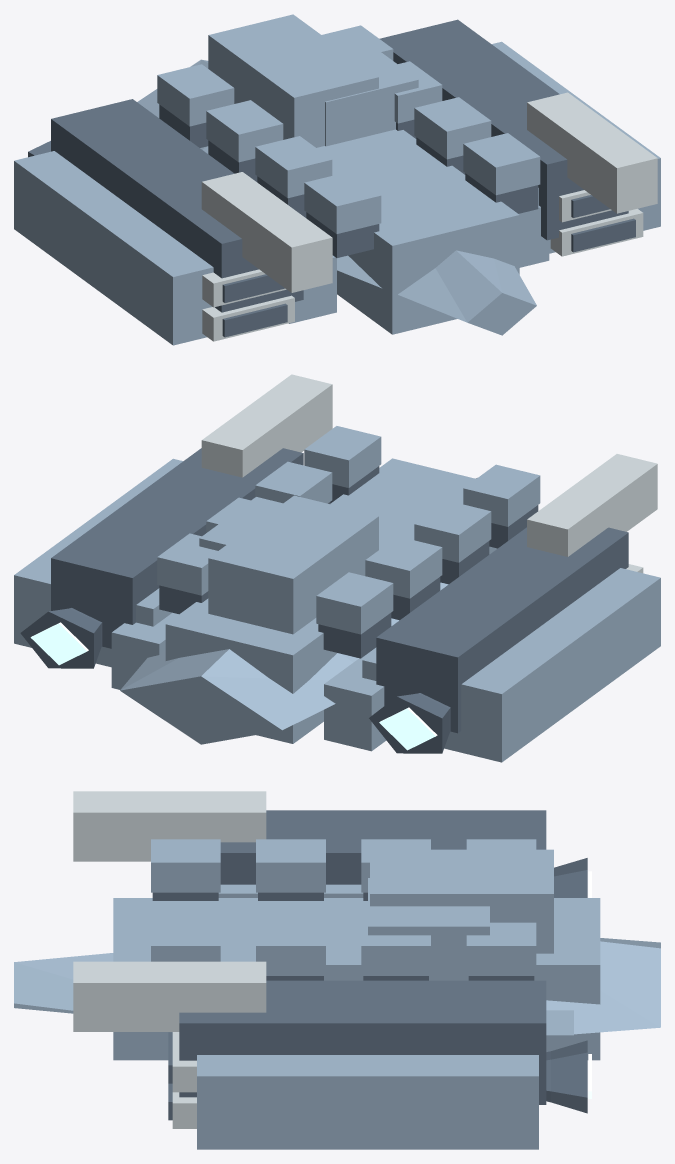
3 views of the same model, one above another, from view 1: azimuth 30°, elevation 25°; view 2: azimuth 150°, elevation 25°; view 3: azimuth 270°, elevation 25° (orthographic). The views are drawn at different scales.
Size of the model in its own units: 18.39 by 5.94 by 19.67.
